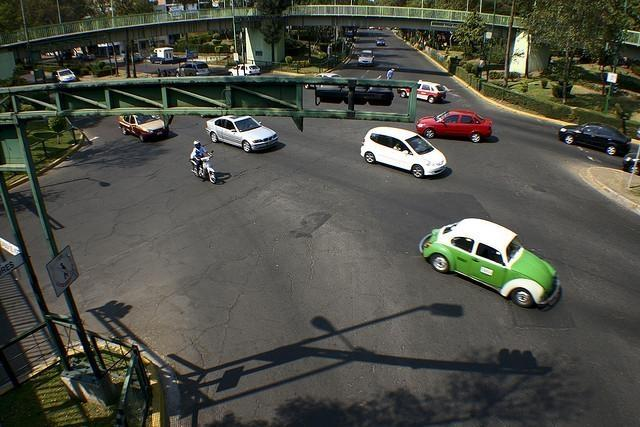car: (417, 216, 562, 314), (358, 126, 448, 178), (206, 115, 279, 152), (558, 122, 634, 157), (417, 110, 492, 143), (119, 114, 166, 142), (397, 80, 448, 104), (175, 62, 211, 77), (622, 151, 640, 175), (228, 64, 261, 76), (54, 69, 78, 82), (376, 38, 386, 46)
motorcycle: (191, 153, 216, 183)
truck: (149, 48, 173, 64), (357, 50, 375, 67)
